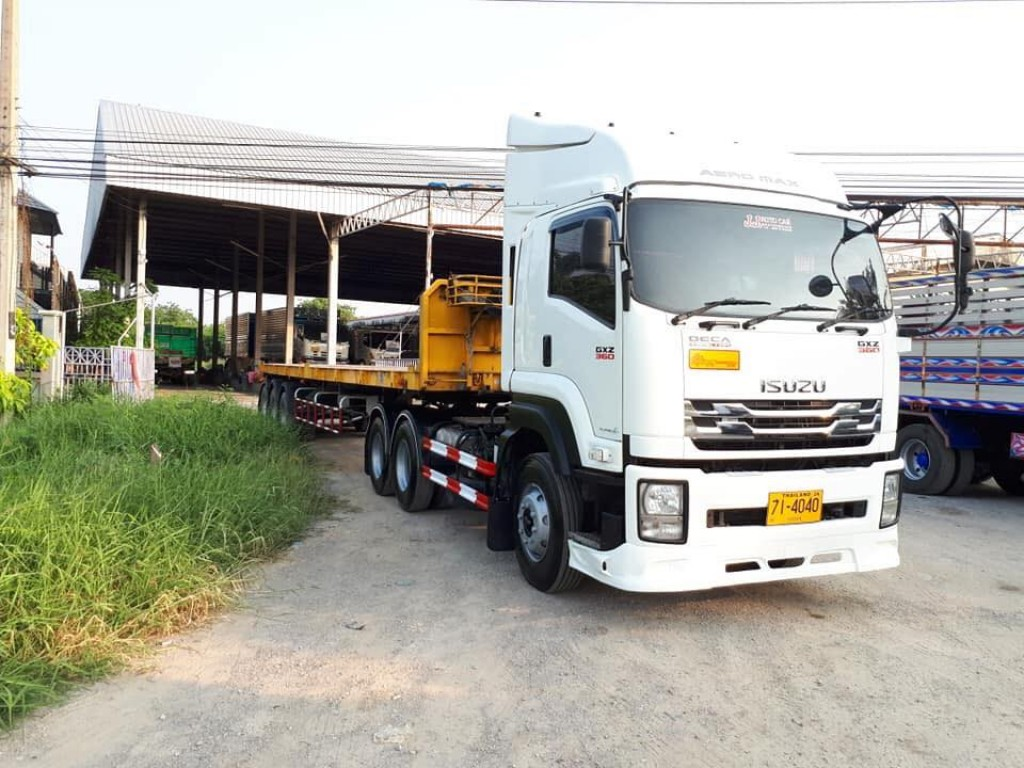truck: (341, 107, 907, 598)
